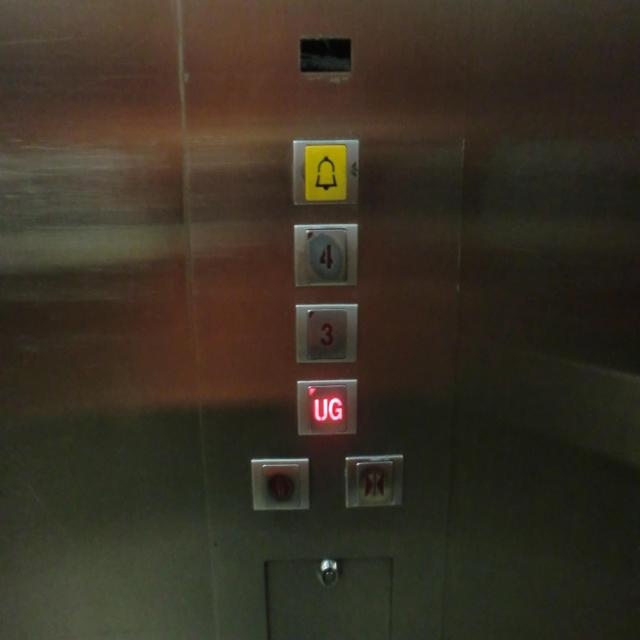3: (292, 299, 362, 367)
4: (289, 218, 362, 293)
UG: (294, 376, 362, 439)
alarm: (289, 135, 362, 210)
close: (341, 452, 407, 511)
open: (248, 455, 314, 513)
